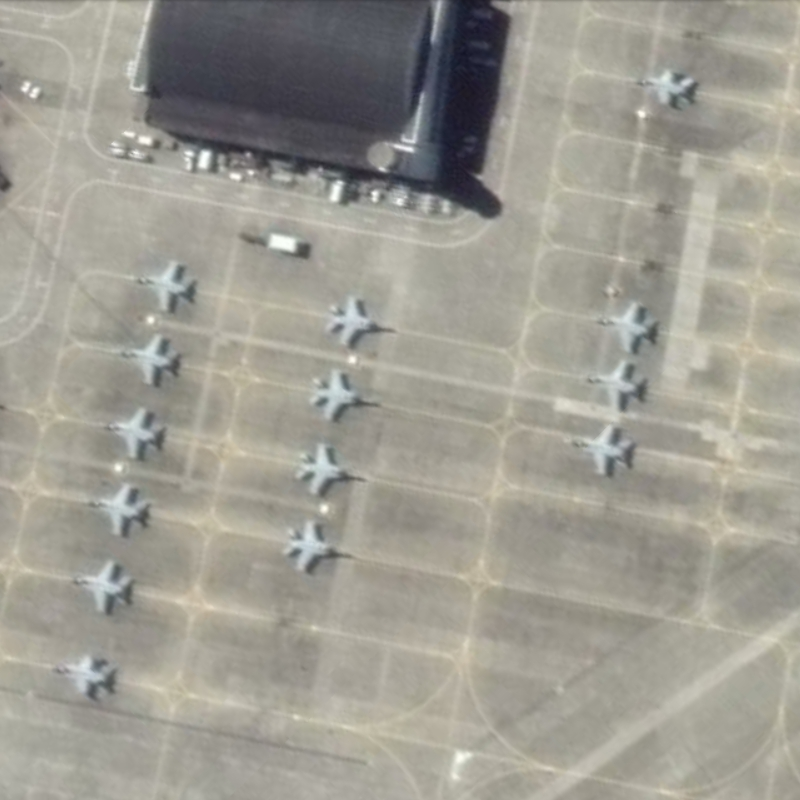A16: (65, 480, 157, 545), (101, 325, 186, 394), (35, 642, 120, 710), (549, 419, 639, 483), (272, 516, 360, 580), (579, 294, 664, 359), (57, 550, 137, 619), (287, 438, 370, 500), (317, 293, 399, 354), (119, 256, 202, 316), (93, 400, 168, 466), (304, 365, 381, 426), (615, 61, 703, 111), (572, 359, 652, 413)
